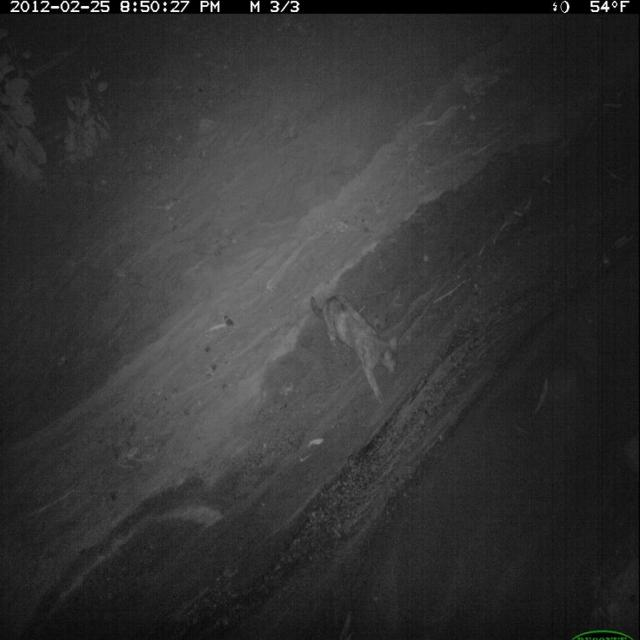cat: (307, 288, 401, 409)
